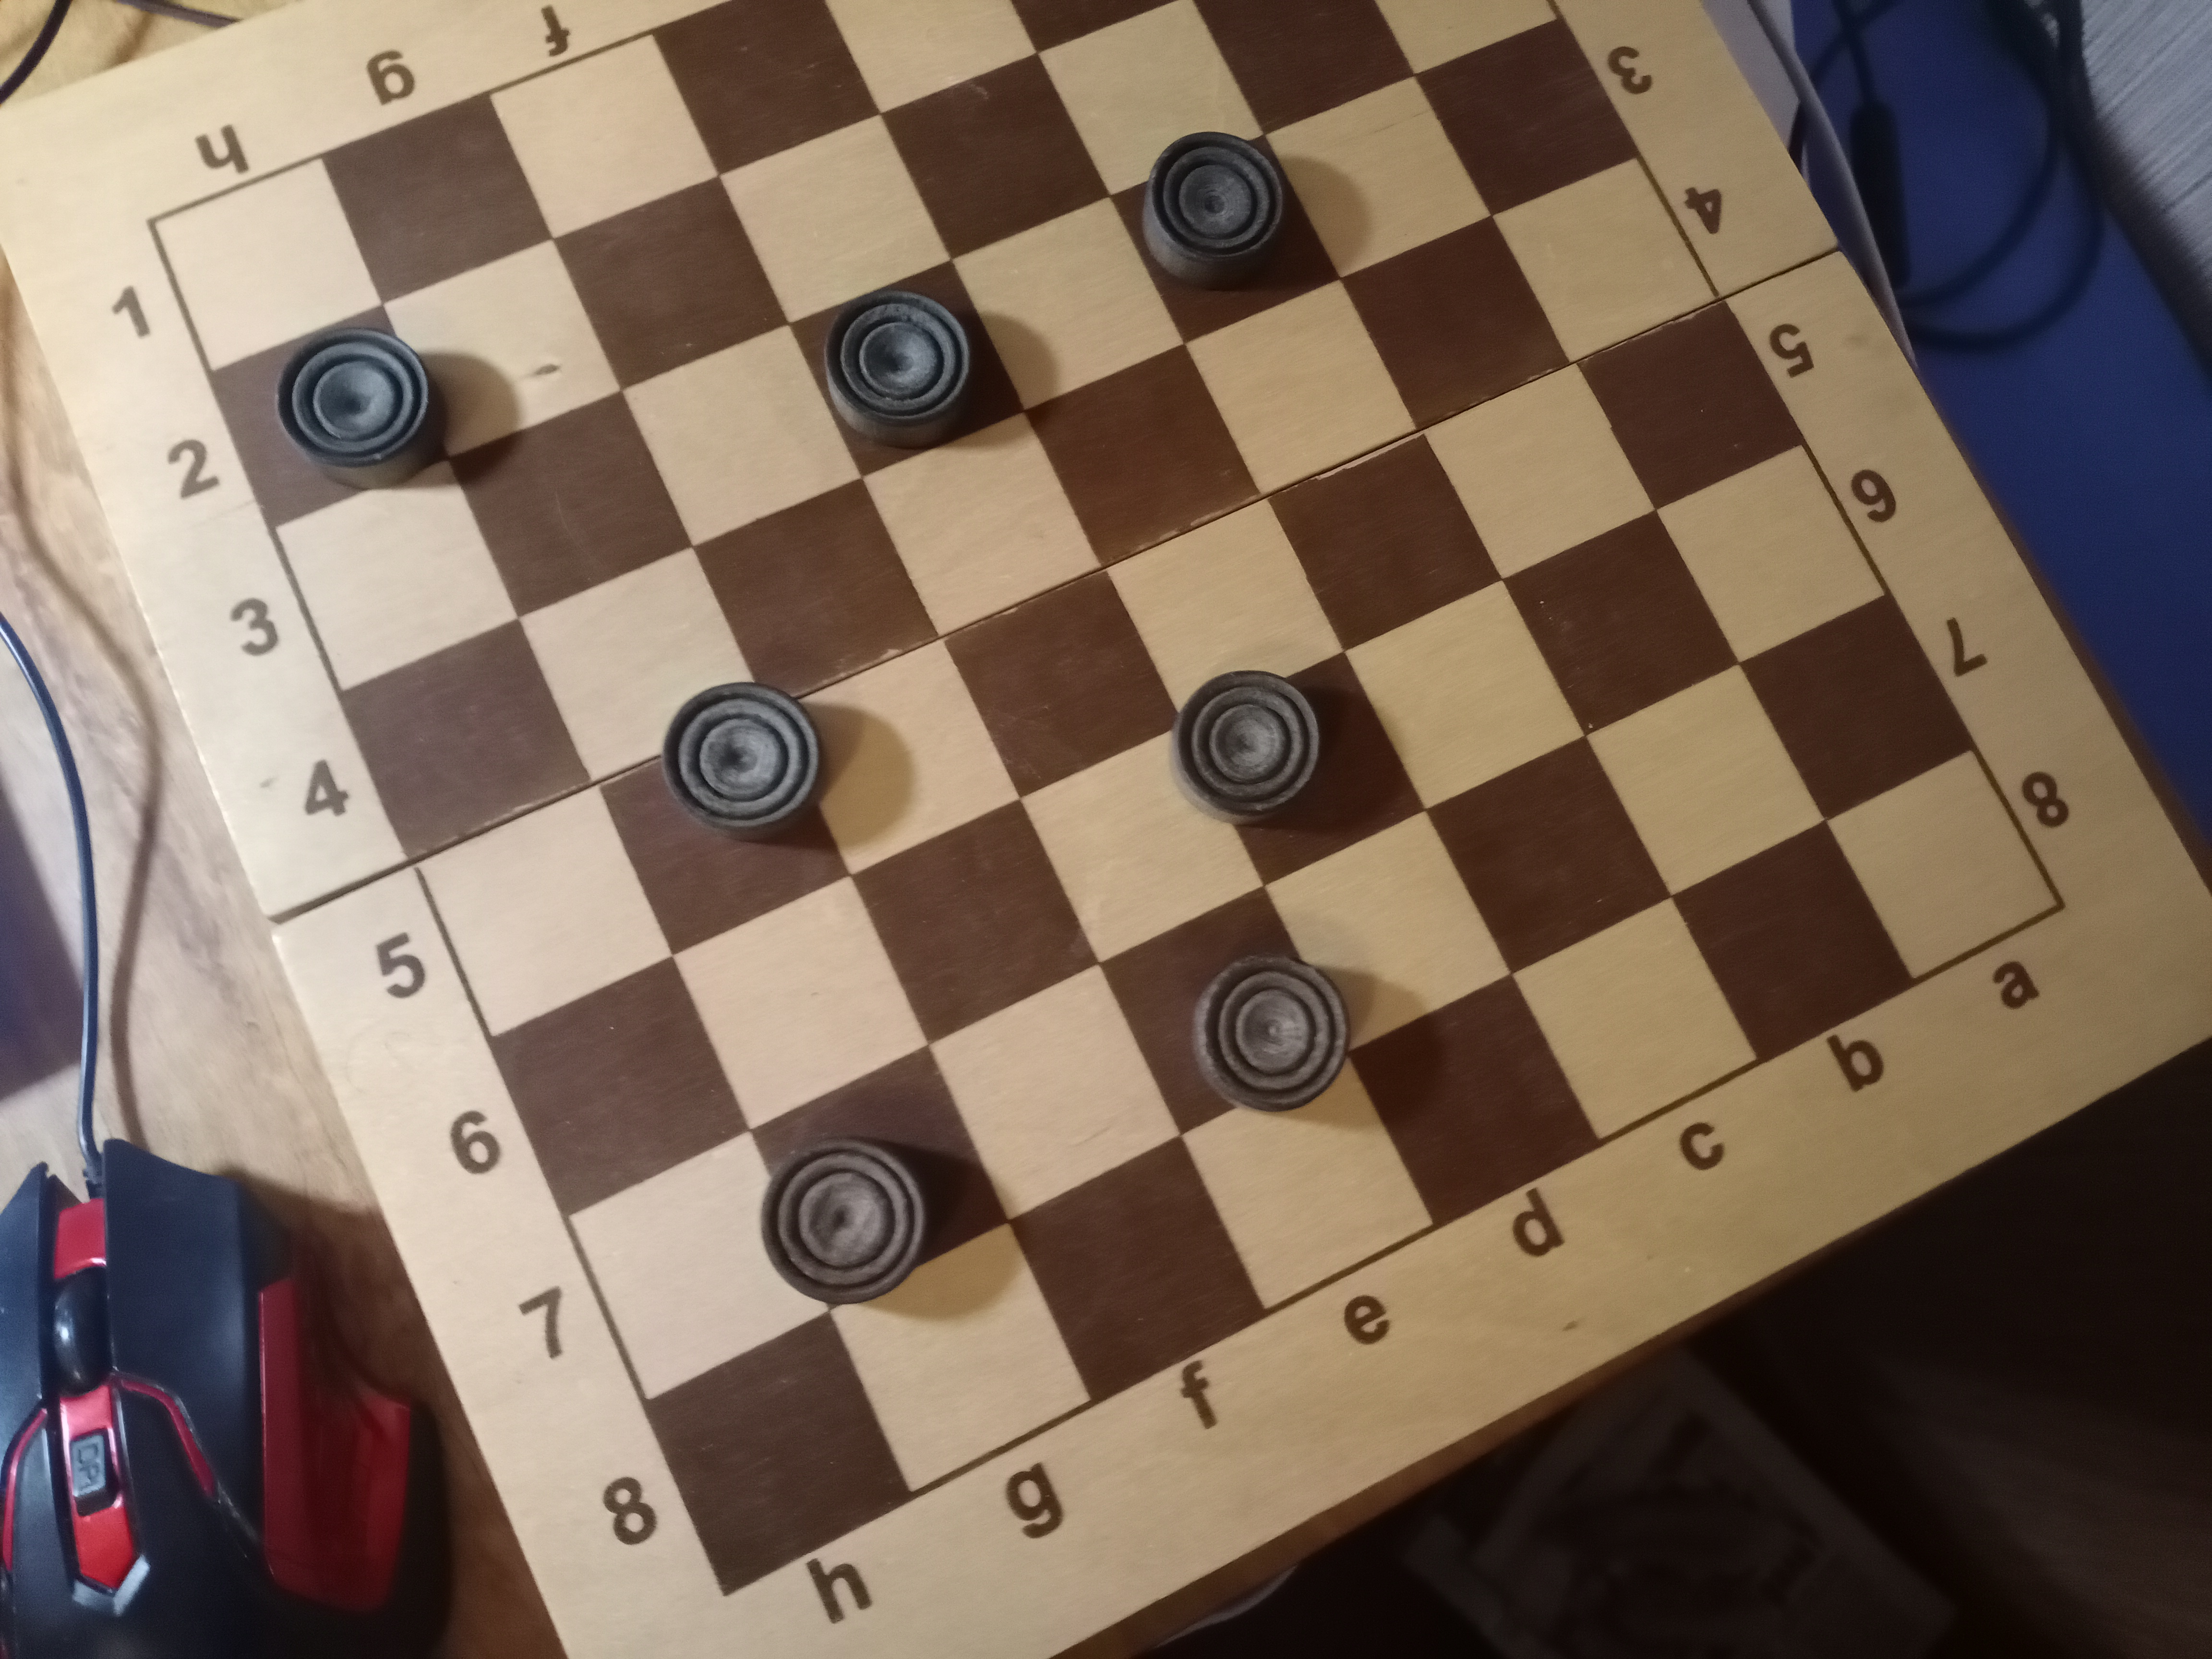Black_Draught: (597, 683, 852, 953), (752, 1044, 1005, 1314), (1101, 890, 1359, 1138), (1172, 652, 1428, 889), (207, 303, 453, 532), (786, 258, 1028, 474), (1108, 129, 1339, 343)
